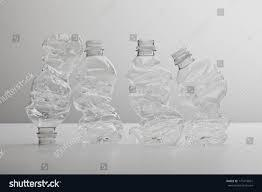Plastic: (118, 33, 184, 154), (166, 44, 233, 150), (31, 26, 84, 150), (69, 39, 128, 148)
